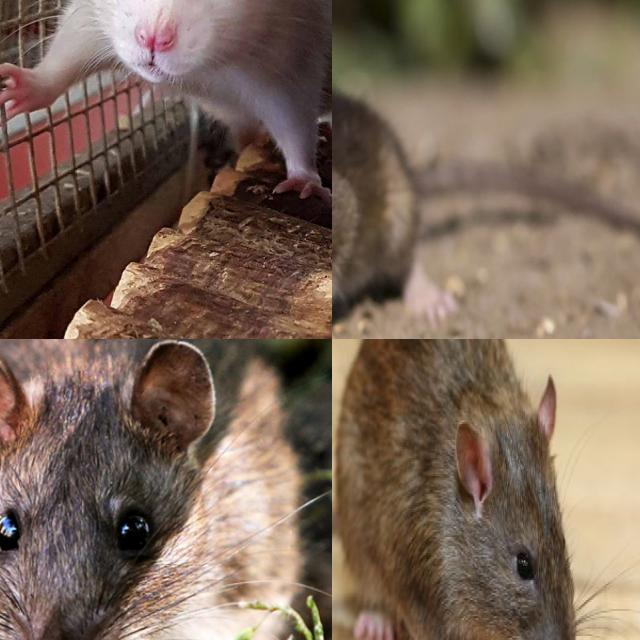rat: (0, 339, 303, 640), (336, 339, 577, 640), (0, 0, 332, 201), (332, 79, 419, 339)
